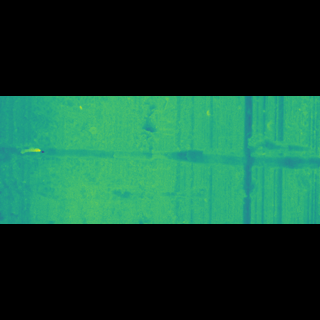Loch: (0, 146, 320, 177), (0, 133, 156, 185)
